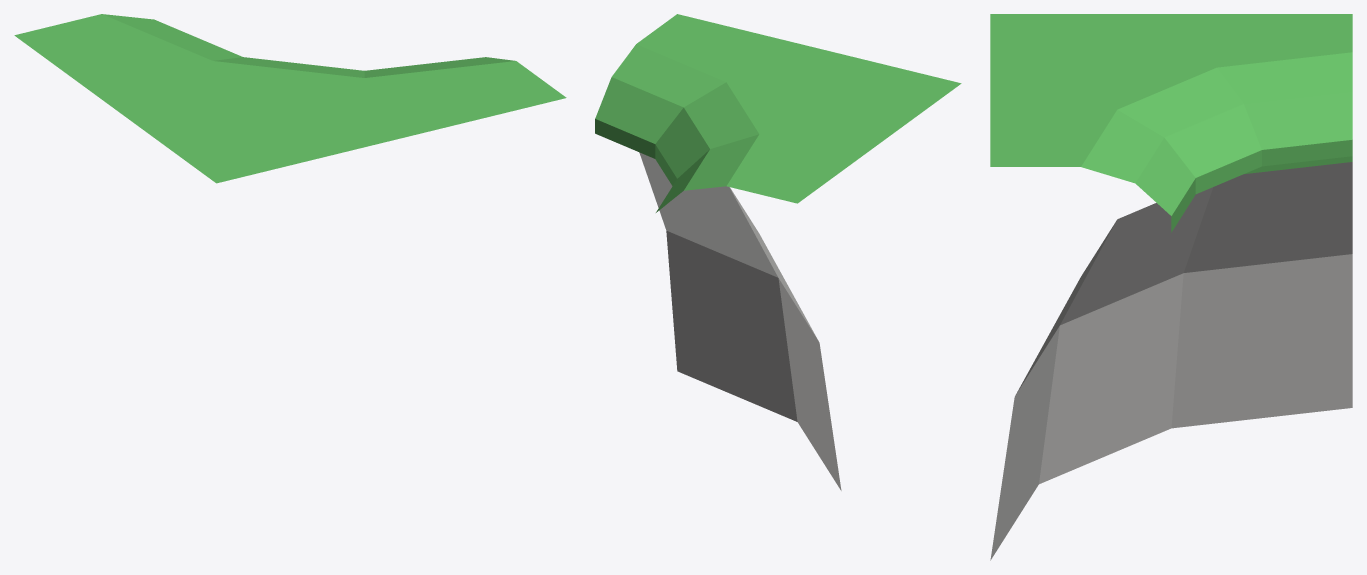
Rendered from Cliff_Terrain_Corner_Inner_1x1_Top.glb.
The picture shows the model from 3 angles, left to right: view 1: azimuth 30°, elevation 25°; view 2: azimuth 150°, elevation 25°; view 3: azimuth 270°, elevation 25°; orthographic projection. The views are drawn at different scales.
Parts seen in each view (by area): view 1: Cliff_Terrain_Corner_Inner_1x1_Top; view 2: Cliff_Terrain_Corner_Inner_1x1_Top; view 3: Cliff_Terrain_Corner_Inner_1x1_Top.
Boxes of the visible parts, x1,y1,x2,y2 form: Cliff_Terrain_Corner_Inner_1x1_Top: [14, 14, 566, 183]; Cliff_Terrain_Corner_Inner_1x1_Top: [595, 14, 961, 490]; Cliff_Terrain_Corner_Inner_1x1_Top: [990, 14, 1352, 560].
Size of the model in its own units: 1 by 1.2 by 1.
